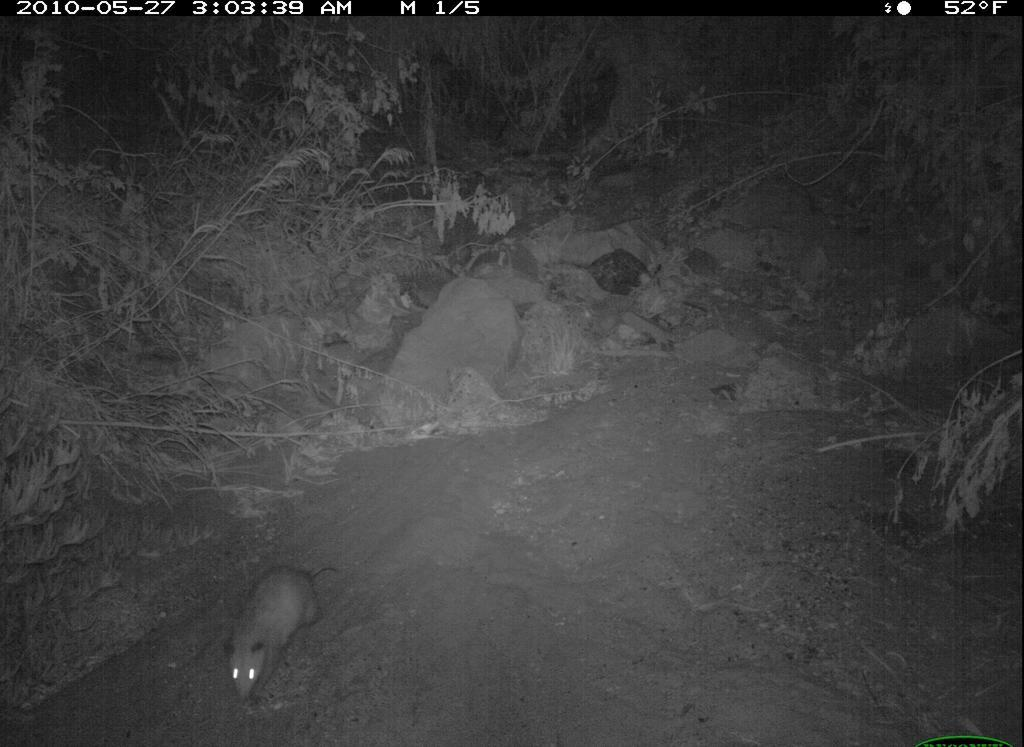opossum: (219, 555, 338, 712)
